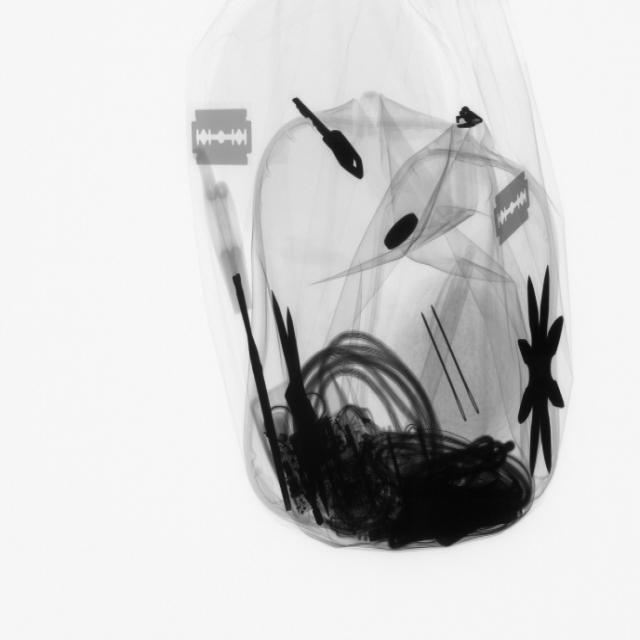BLADE: (184, 94, 263, 180), (489, 167, 536, 249)
SHURIKEN: (508, 265, 575, 488), (272, 282, 335, 518)
